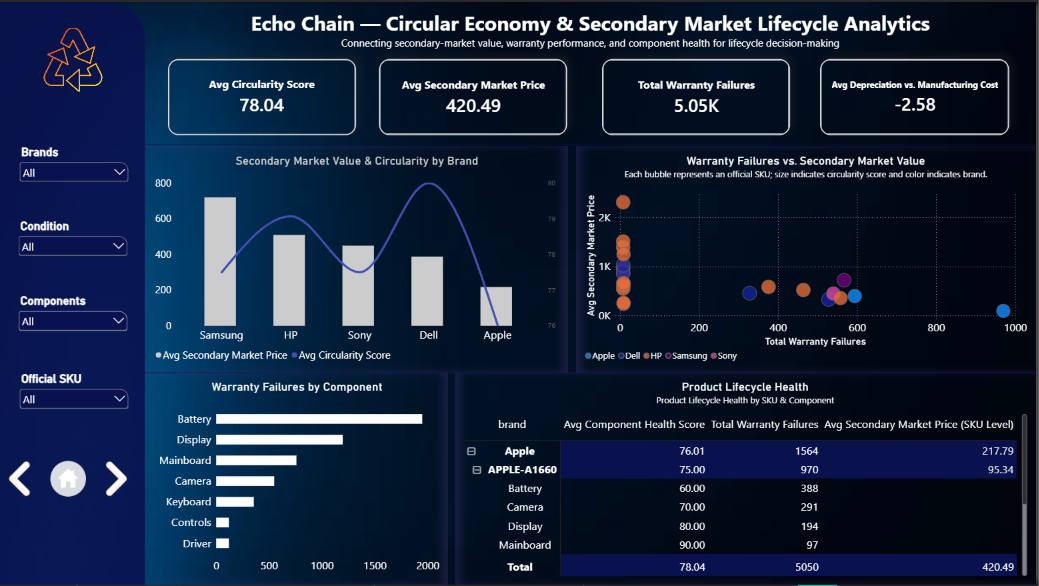

The page's visual inventory and layout, read from the dashboard file:
{"tool":"powerbi","page":{"name":"Executive Lifecycle Overview","canvas":[1920,1080],"ordinal":1},"visuals":[{"type":"shape","box":[0,0,268.6,1080.7],"z":0},{"type":"cardVisual","fields":{"Data":["marketplace_product_health.Avg Circularity Score"]},"box":[311.8,106.5,348.6,141.4],"z":1000},{"type":"cardVisual","fields":{"Data":["marketplace_product_health.Avg Secondary Market Price"]},"box":[703.1,106.5,348.6,141.4],"z":2000},{"type":"cardVisual","fields":{"Data":["marketplace_product_health.Total Warranty Failures"]},"box":[1115.6,106.5,348.6,141.4],"z":3000},{"type":"cardVisual","title":"Avg Depreciation vs. Manufacturing Cost","fields":{"Data":["marketplace_product_health.Avg Depreciation %"]},"box":[1520.4,106.5,350.6,141.4],"z":4000},{"type":"lineClusteredColumnComboChart","title":"Secondary Market Value & Circularity by Brand","fields":{"Category":["marketplace_product_health.brand"],"Y":["marketplace_product_health.Avg Secondary Market Price"],"Y2":["marketplace_product_health.Avg Circularity Score"]},"box":[270,266,782,420],"z":5000},{"type":"textbox","box":[268.6,12.4,1651,95.1],"z":6000},{"type":"slicer","fields":{"Values":["marketplace_product_health.brand"]},"box":[31,264.5,211.2,68.1],"z":7000},{"type":"slicer","fields":{"Values":["marketplace_product_health.condition"]},"box":[28.9,402.9,211.2,72.7],"z":8000},{"type":"slicer","fields":{"Values":["marketplace_product_health.official_sku"]},"box":[31,686,211.2,72.7],"z":9000},{"type":"slicer","fields":{"Values":["marketplace_product_health.component"]},"box":[28.9,541.4,211.2,72.7],"z":10000},{"type":"scatterChart","title":"Warranty Failures vs. Secondary Market Value","fields":{"Category":["marketplace_product_health.official_sku"],"Series":["marketplace_product_health.brand"],"Size":["marketplace_product_health.Avg Circularity Score"],"X":["marketplace_product_health.Total Warranty Failures"],"Y":["marketplace_product_health.Avg Secondary Market Price"]},"box":[1068,266,852,420],"z":11000},{"type":"clusteredBarChart","title":"Warranty Failures by Component","fields":{"Category":["marketplace_product_health.component"],"Y":["marketplace_product_health.Total Warranty Failures"]},"box":[270,686,560,394],"z":12000},{"type":"pivotTable","title":"Product Lifecycle Health","fields":{"Rows":["marketplace_product_health.brand","marketplace_product_health.official_sku","marketplace_product_health.component"],"Values":["marketplace_product_health.Avg Component Health Score","marketplace_product_health.Total Warranty Failures","marketplace_product_health.Avg Secondary Market Price (SKU Level)"]},"box":[844,686,1076,394],"z":13000},{"type":"image","box":[72.3,47.5,126,117.8],"z":14000},{"type":"shape","box":[269.2,679.8,1650.1,13.6],"z":15000},{"type":"shape","box":[269.2,257.6,1650.1,13.6],"z":16000},{"type":"image","box":[0,840,72,88],"z":17000},{"type":"image","box":[180,840,72,88],"z":18000},{"type":"image","box":[72,840,108,88],"z":19000}]}

Visuals, with their boxes in screenshot pixels (x1, y1, x2, y2), scaled from the page's 1920x1080 canvas onto the 1039x586 screenshot:
shape: 0/0/145/585
cardVisual - marketplace_product_health.Avg Circularity Score: 169/58/357/135
cardVisual - marketplace_product_health.Avg Secondary Market Price: 380/58/569/135
cardVisual - marketplace_product_health.Total Warranty Failures: 604/58/792/135
"Avg Depreciation vs. Manufacturing Cost" cardVisual: 823/58/1012/135
"Secondary Market Value & Circularity by Brand" lineClusteredColumnComboChart: 146/144/569/372
textbox: 145/7/1038/58
slicer - marketplace_product_health.brand: 17/144/131/180
slicer - marketplace_product_health.condition: 16/219/130/258
slicer - marketplace_product_health.official_sku: 17/372/131/412
slicer - marketplace_product_health.component: 16/294/130/333
"Warranty Failures vs. Secondary Market Value" scatterChart: 578/144/1038/372
"Warranty Failures by Component" clusteredBarChart: 146/372/449/585
"Product Lifecycle Health" pivotTable: 457/372/1038/585
image: 39/26/107/90
shape: 146/369/1038/376
shape: 146/140/1038/147
image: 0/456/39/504
image: 97/456/136/504
image: 39/456/97/504
